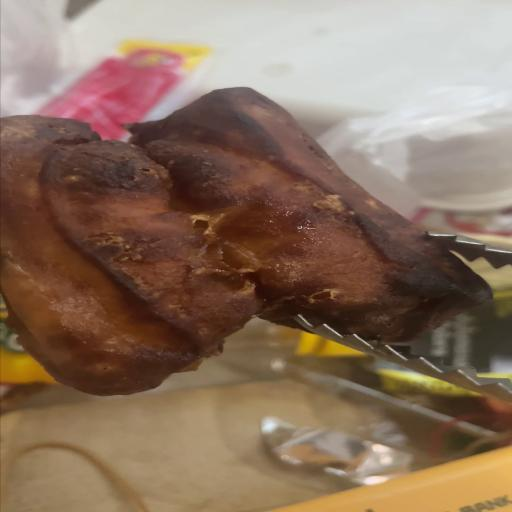street_burnt_defect: (0, 88, 492, 395)
